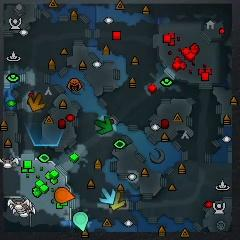p2: (73, 211, 88, 231)
p5: (55, 188, 75, 203)
x2: (110, 193, 126, 210)
x3: (100, 187, 116, 204)
x4: (95, 116, 112, 135)
x5: (28, 93, 45, 111)
